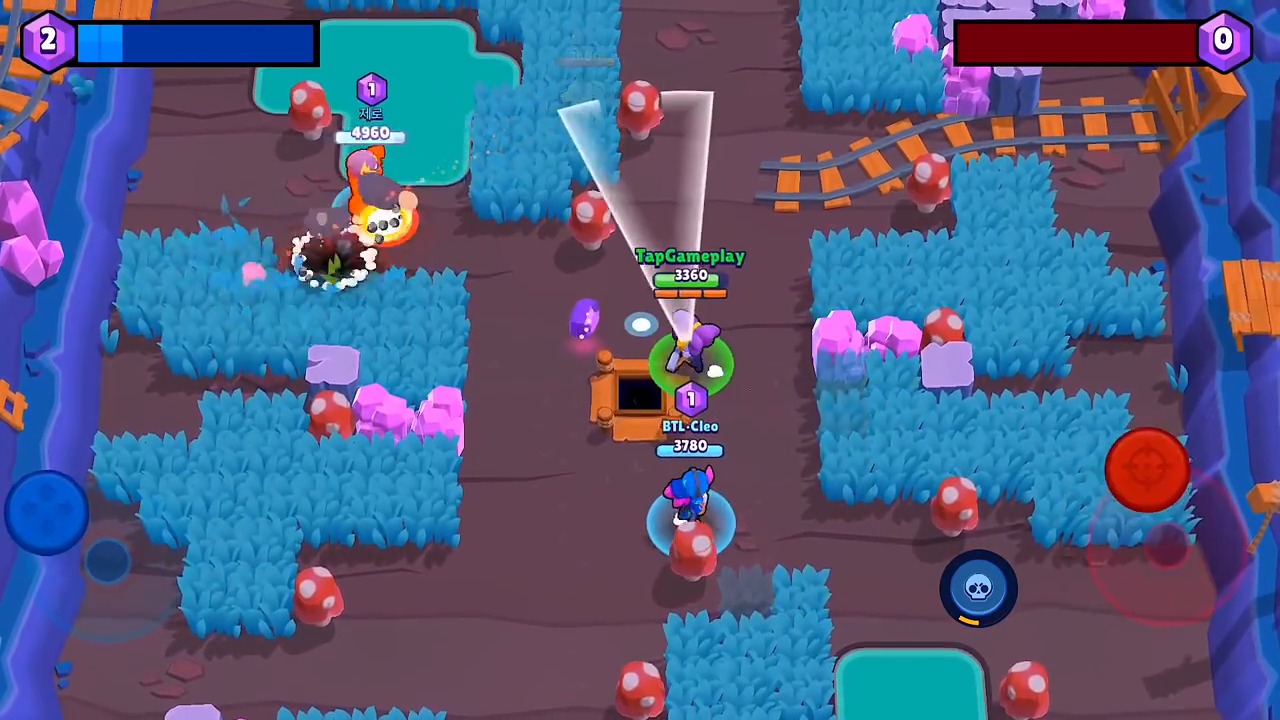move_stick: (7, 470, 88, 550)
red: (338, 145, 437, 260)
